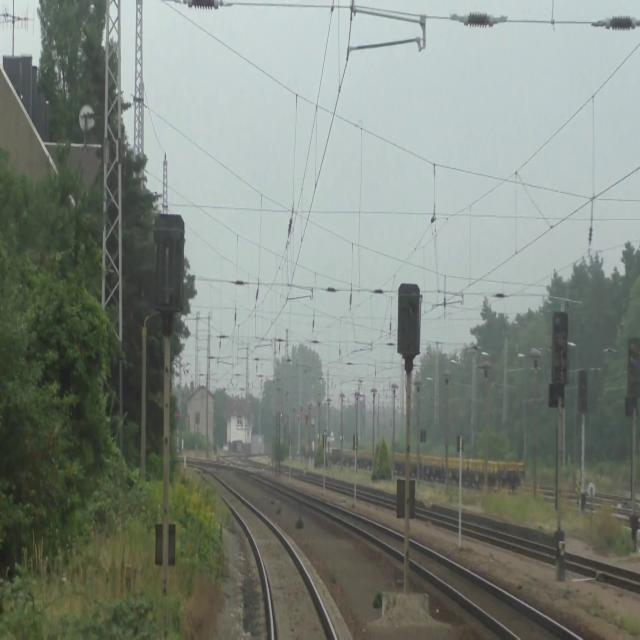rail-track: (214, 481, 331, 639), (410, 546, 570, 639), (367, 526, 404, 548)
